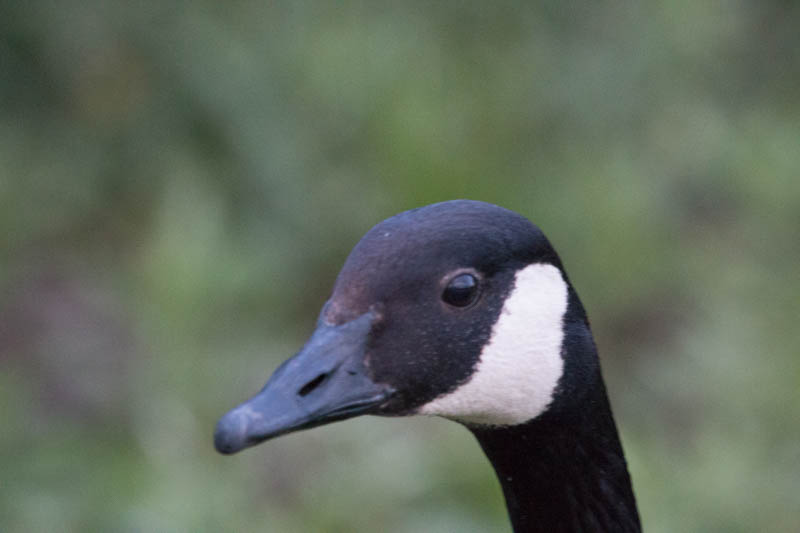goose-head: (211, 198, 598, 458)
